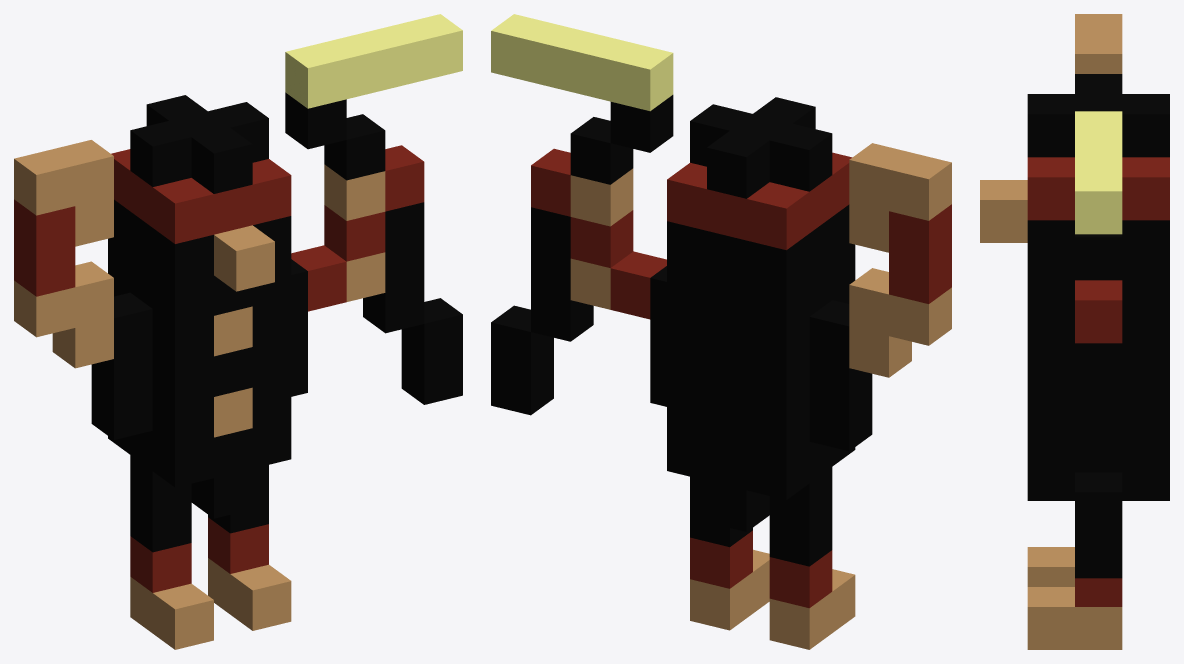
The model's file is militia.glb.
3 views of the same model, side by side, from view 1: azimuth 30°, elevation 25°; view 2: azimuth 150°, elevation 25°; view 3: azimuth 270°, elevation 25° (orthographic). The views are drawn at different scales.
Parts seen in each view (by area): view 1: militia; view 2: militia; view 3: militia.
Part boxes in pixels (box(x1,y1,x2,y2)): militia: box(14, 14, 462, 649); militia: box(491, 14, 951, 649); militia: box(980, 14, 1169, 649).
Bounding box in the file's own units: 0.6875 × 0.8125 × 0.25.
1 material, 1 textured.
